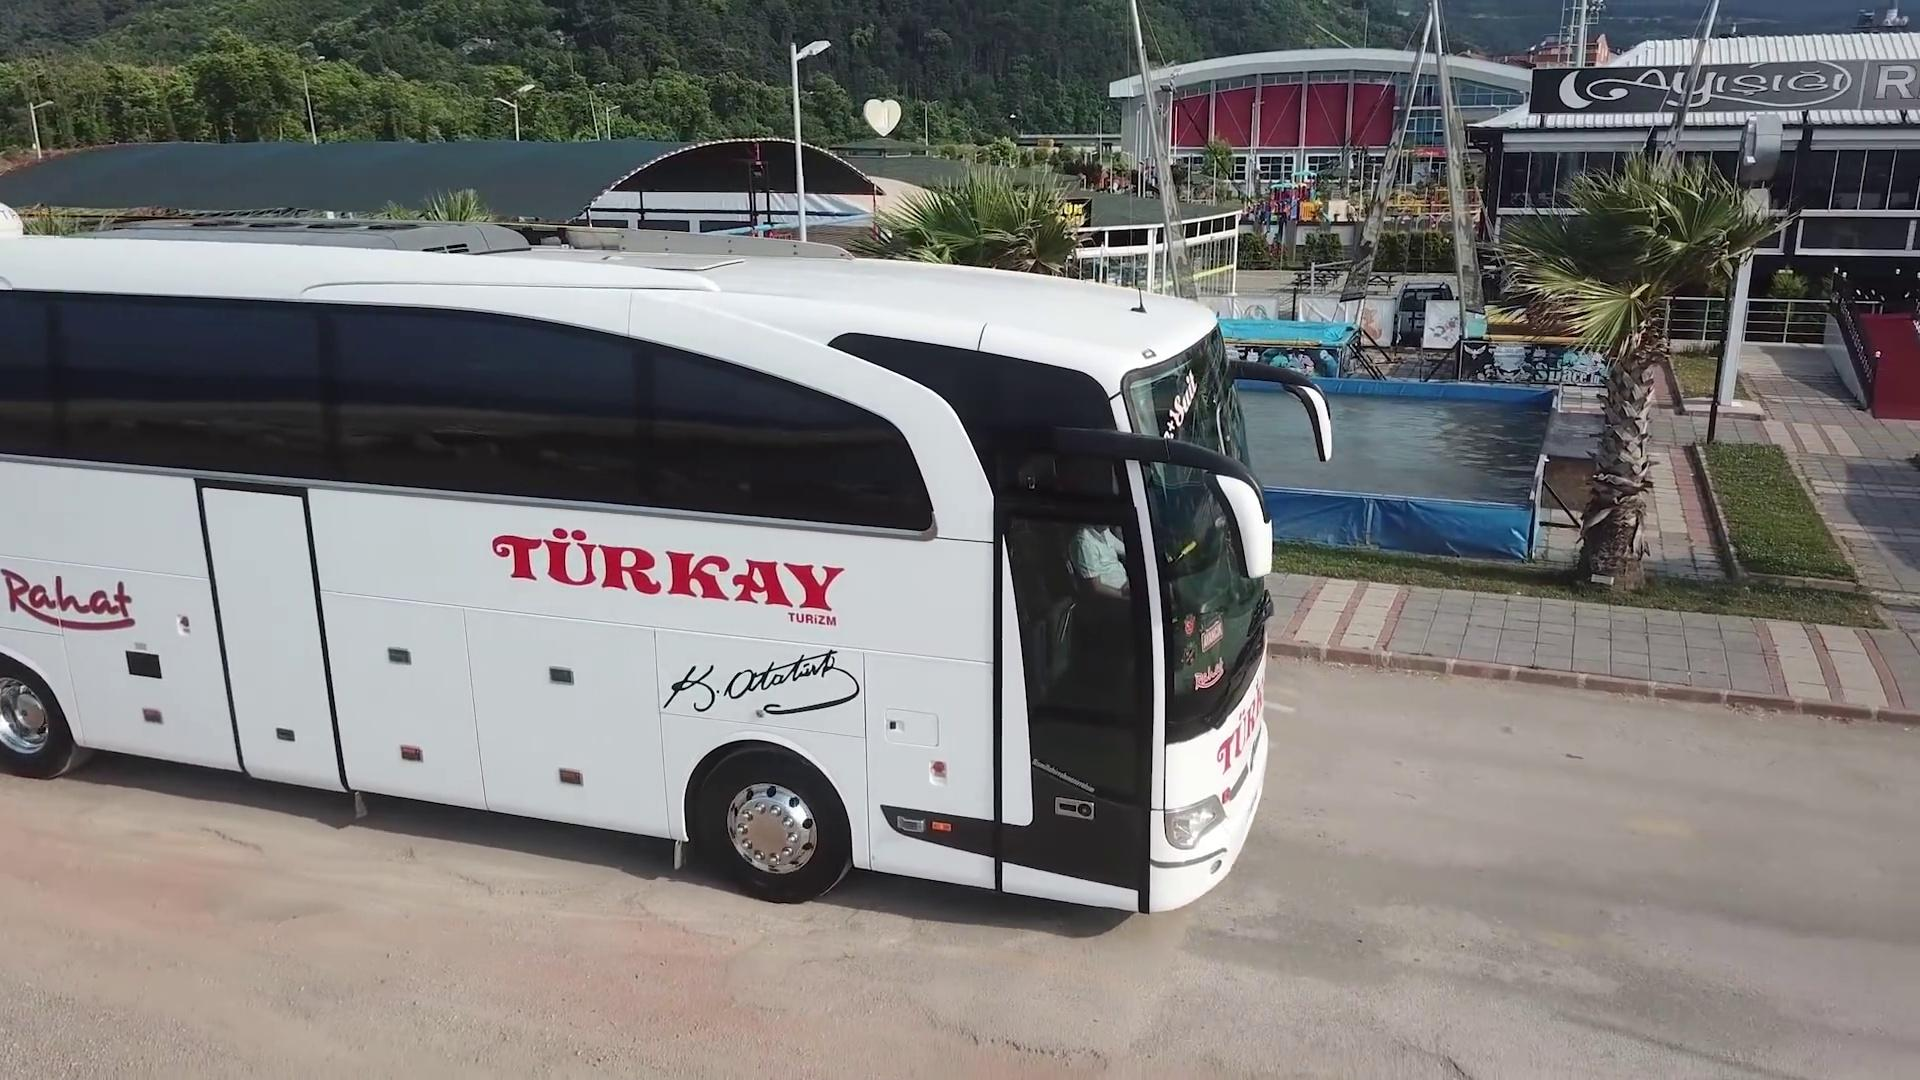Bus: (0, 213, 1330, 916)
